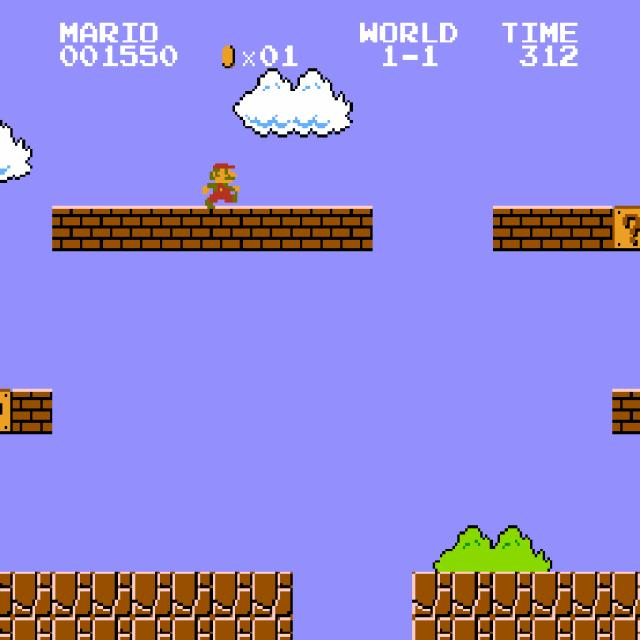brick_block: (12, 389, 53, 434), (52, 206, 93, 251), (92, 206, 133, 251), (132, 206, 173, 251), (172, 206, 213, 251), (212, 206, 253, 251), (252, 206, 293, 251), (292, 206, 333, 251), (332, 206, 373, 251), (492, 206, 533, 251), (532, 206, 573, 251), (572, 206, 613, 251), (612, 389, 640, 434)
little_mario: (200, 160, 242, 208)
mystery_block: (612, 206, 640, 251), (0, 389, 13, 434)
undestructible_block: (12, 572, 53, 617), (52, 572, 93, 617), (92, 572, 133, 617), (132, 572, 173, 617), (172, 572, 213, 617), (212, 572, 253, 617), (252, 572, 293, 617), (412, 572, 453, 617), (452, 572, 493, 617), (492, 572, 533, 617), (532, 572, 573, 617), (572, 572, 613, 617), (612, 572, 640, 617), (12, 617, 53, 640), (52, 617, 93, 640), (92, 617, 133, 640), (132, 617, 173, 640), (172, 617, 213, 640), (212, 617, 253, 640), (252, 617, 293, 640), (412, 617, 453, 640), (452, 617, 493, 640), (492, 617, 533, 640), (532, 617, 573, 640), (572, 617, 613, 640), (612, 617, 640, 640), (0, 572, 13, 617), (0, 617, 13, 640)
